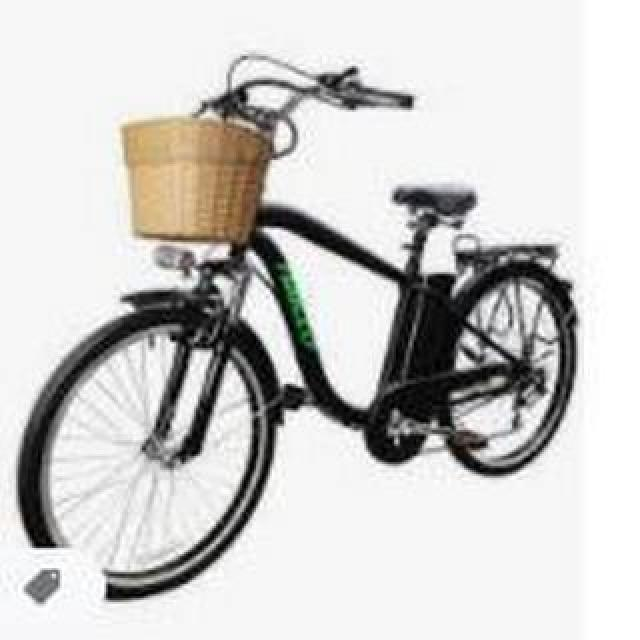Person: (18, 50, 580, 604)
